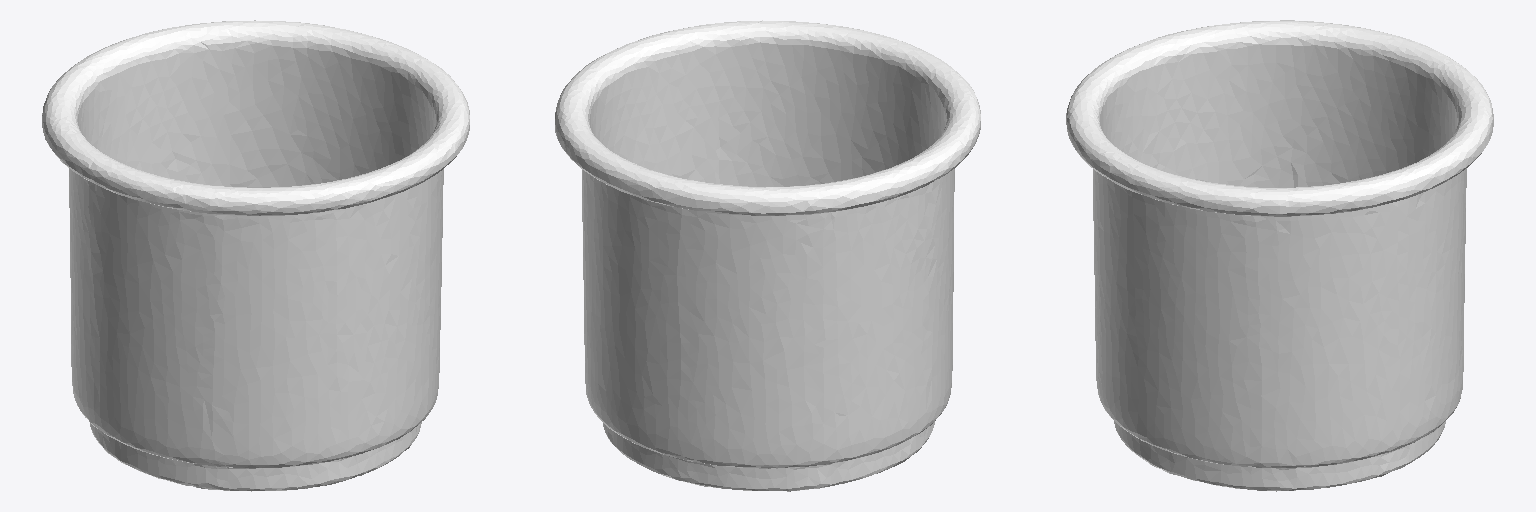
The robot description file, URDF, robot "065-b_cups":
<robot name="065-b_cups">
	<link name="_name">
		<visual>
			<origin xyz="0.26747550267515285 0.5365431597117832 -0.2994142003313046" rpy="0 0 0" />
			<geometry>
				<mesh filename="065-b_cups/google_16k/textured.obj" scale="10 10 10" />
			</geometry>
			<material name="texture">
				<color rgba="1.0 1.0 1.0 1.0" />
			</material>
		</visual>
		<collision>
			<geometry>
				<mesh filename="065-b_cups/google_16k/textured_vhacd.obj" scale="10 10 10" />
			</geometry>
		<origin xyz="0.26747550267515285 0.5365431597117832 -0.2994142003313046" rpy="0 0 0" /></collision>
		<inertial>
			<mass value="1.0" />
			<inertia ixx="1.0" ixy="0.0" ixz="0.0" iyy="1.0" iyz="0.0" izz="1.0" />
		</inertial>
	</link>
</robot>

--- Render facts (derived) ---
Views: 3 orthographic renders of the robot side by side, from view 1: azimuth 30°, elevation 25°; view 2: azimuth 150°, elevation 25°; view 3: azimuth 270°, elevation 25°.
Model 065-b_cups with 1 links and 0 joints (none), rooted at _name, posed all joints at 0.
Visible links, largest first — view 1: _name; view 2: _name; view 3: _name.
Boxes of the visible links, x1,y1,x2,y2 form: _name: (42,20,469,491); _name: (555,20,980,491); _name: (1066,20,1493,491).
Size in the robot's own frame: 0.915 by 0.9162 by 0.7506 metres.
Meshes: 1 distinct files referenced, 1 mesh visuals loaded (1 OBJ).